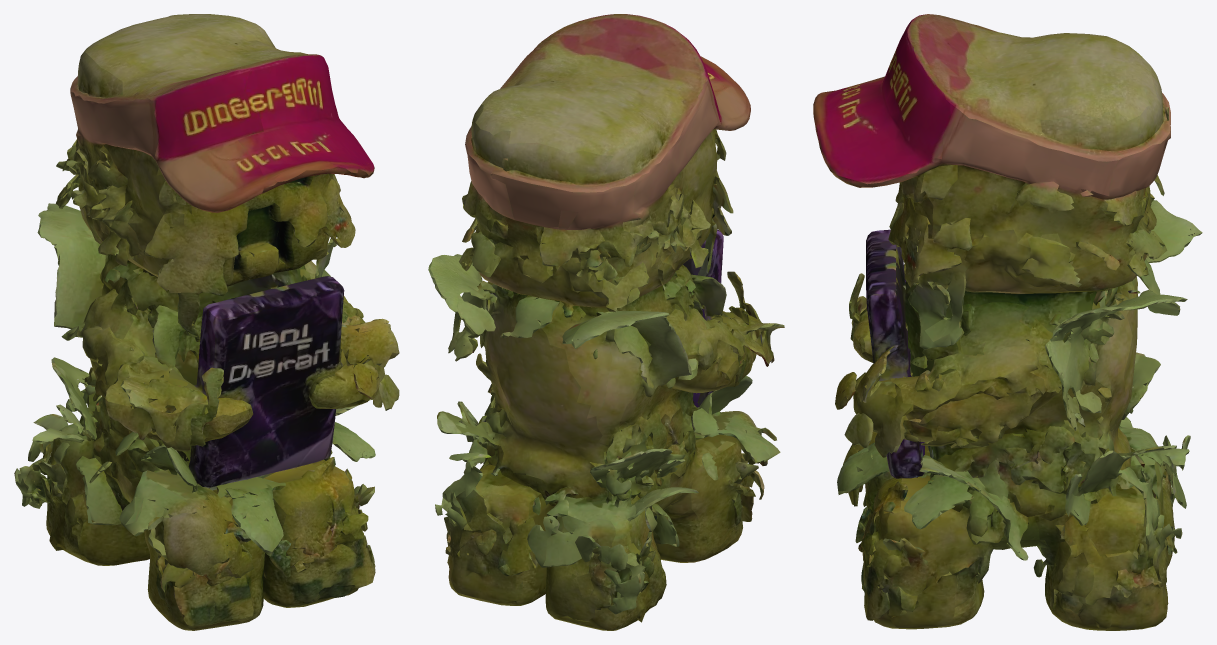
The model's file is contattaci-compressed.glb.
The picture shows the model from 3 angles, left to right: view 1: azimuth 30°, elevation 25°; view 2: azimuth 150°, elevation 25°; view 3: azimuth 270°, elevation 25°; orthographic projection. The views are drawn at different scales.
Visible parts, largest first — view 1: textured_meshobj; view 2: textured_meshobj; view 3: textured_meshobj.
Boxes of the visible parts, bbox=[...] form: textured_meshobj: bbox=[14, 14, 399, 630]; textured_meshobj: bbox=[428, 14, 784, 630]; textured_meshobj: bbox=[813, 14, 1202, 630].
Size of the model in its own units: 1.05 by 1.99 by 1.26.
1 material, 1 textured.
